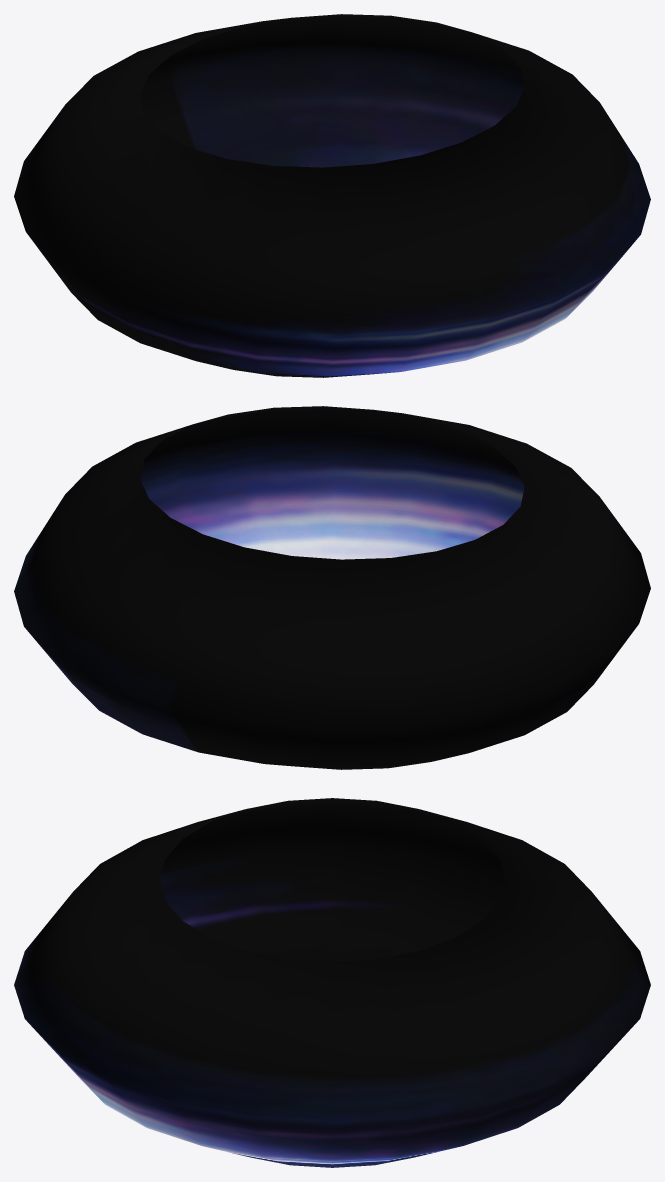
The model's file is fx_fbx_cj_zc_csz01.FBX.
The picture shows the model from 3 angles, top to bottom: view 1: azimuth 30°, elevation 25°; view 2: azimuth 150°, elevation 25°; view 3: azimuth 270°, elevation 25°; orthographic projection.
Parts seen in each view (by area): view 1: Torus001; view 2: Torus001; view 3: Torus001.
Part boxes in pixels (x1,y1,x2,y2): Torus001: (14,14,650,377); Torus001: (14,406,650,769); Torus001: (14,798,650,1167).
Bounding box in the file's own units: 55 × 56.41 × 20.52.
1 material, 1 textured.
